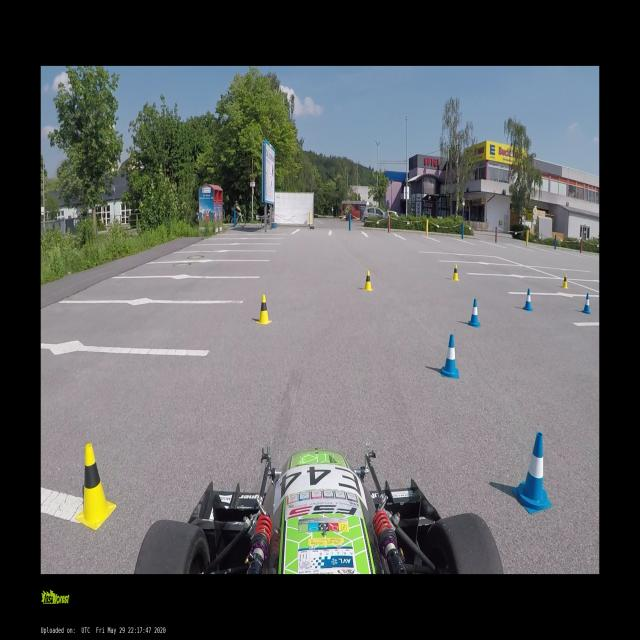blue_cone: (519, 432, 550, 509), (442, 334, 458, 377), (468, 298, 480, 326), (522, 288, 533, 312), (582, 293, 590, 314)
yellow_cone: (77, 443, 114, 530), (256, 294, 272, 324), (363, 270, 372, 290), (452, 264, 460, 280), (562, 274, 568, 288)
